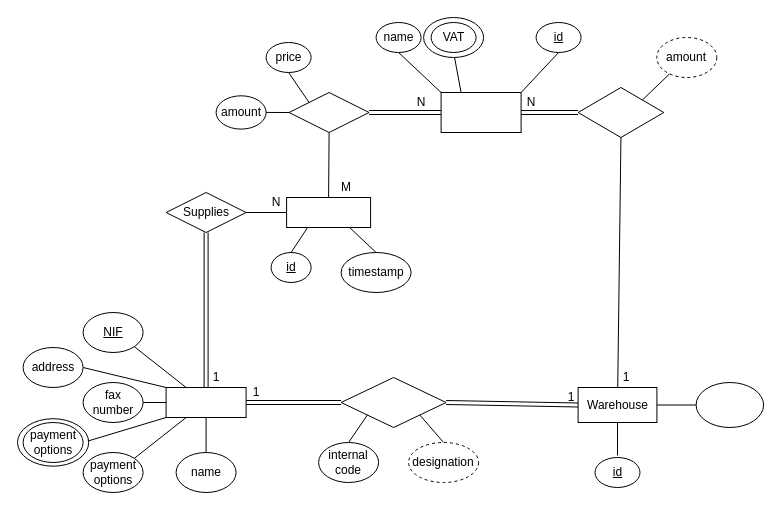
Image size: 782x510. Some labels were removed from this diagram. Here are the shapes that lost their labels. From the top down, the box of each, then its label:
(288, 92, 369, 132): Contains
(440, 92, 521, 132): Product
(577, 86, 664, 138): Stored
(286, 196, 371, 228): Order
(165, 386, 246, 418): Supplier
(340, 376, 446, 428): Registred
(695, 382, 764, 428): location
